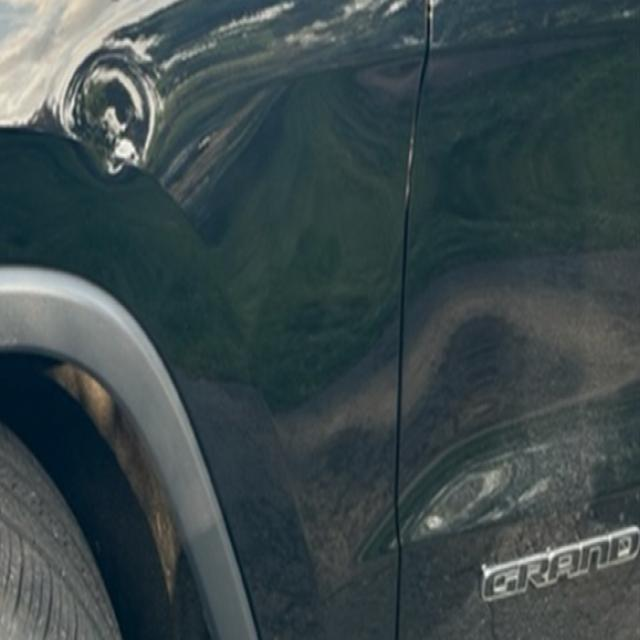dents: (58, 33, 172, 191)
